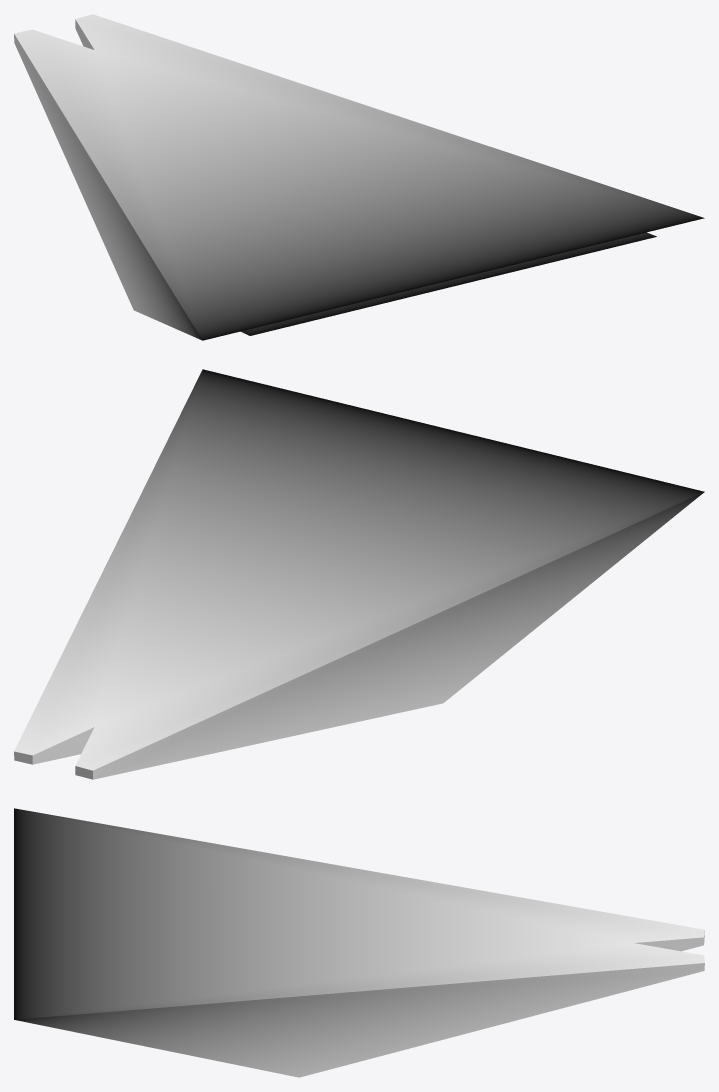
The model's file is TOBU50000_LIGHT.glb.
The picture shows the model from 3 angles, top to bottom: view 1: azimuth 30°, elevation 25°; view 2: azimuth 150°, elevation 25°; view 3: azimuth 270°, elevation 25°; orthographic projection. The views are drawn at different scales.
Visible parts, largest first — view 1: Light_In1, obj16; view 2: Light_In1; view 3: Light_In1.
Part boxes in pixels (x1,y1,x2,y2): Light_In1: [14, 14, 704, 340]; obj16: [240, 232, 656, 335]; Light_In1: [14, 369, 704, 779]; Light_In1: [14, 808, 704, 1077].
Size of the model in its own units: 40.32 by 8.75 by 55.66.
Materials: 4 (4 with a texture image).
